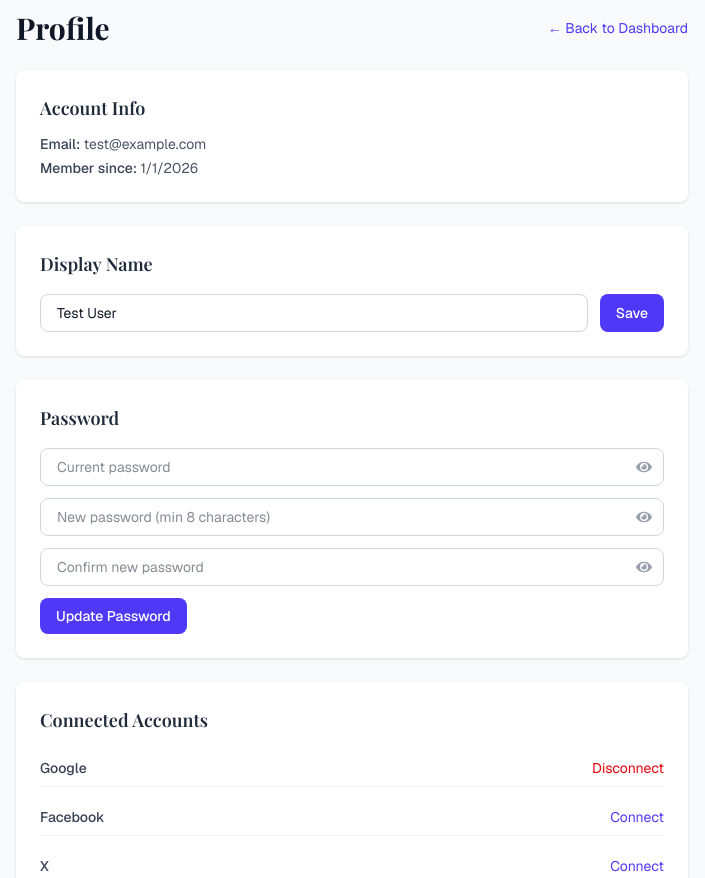
Test: ProfilePage › shows error when new passwords do not match
The width and height of the screenshot is (705, 878).
Type "current" into the password field with placeholder "Current password" at (352, 467), box [40,448,664,486]
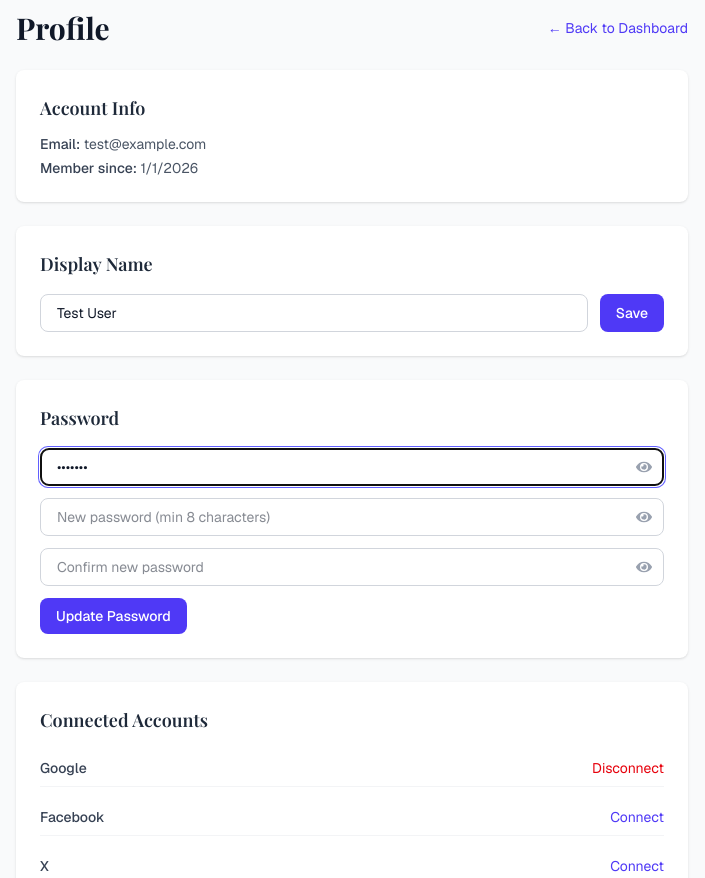
Type "newpass1" into the password field with placeholder "New password (min 8 characters)" at (352, 517), box [40,498,664,536]
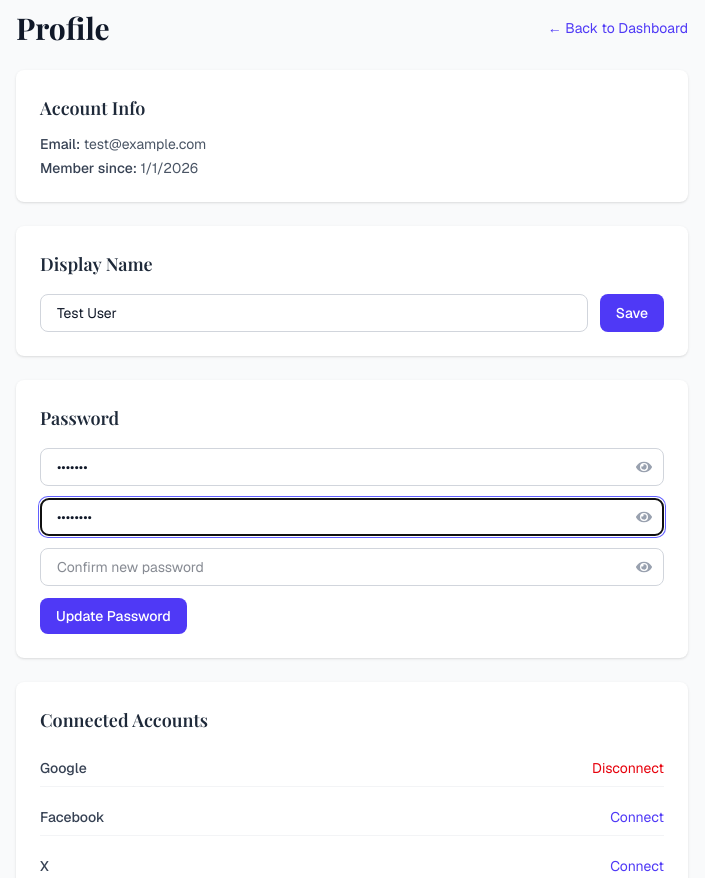
Type "newpass2" into the password field with placeholder "Confirm new password" at (352, 567), box [40,548,664,586]
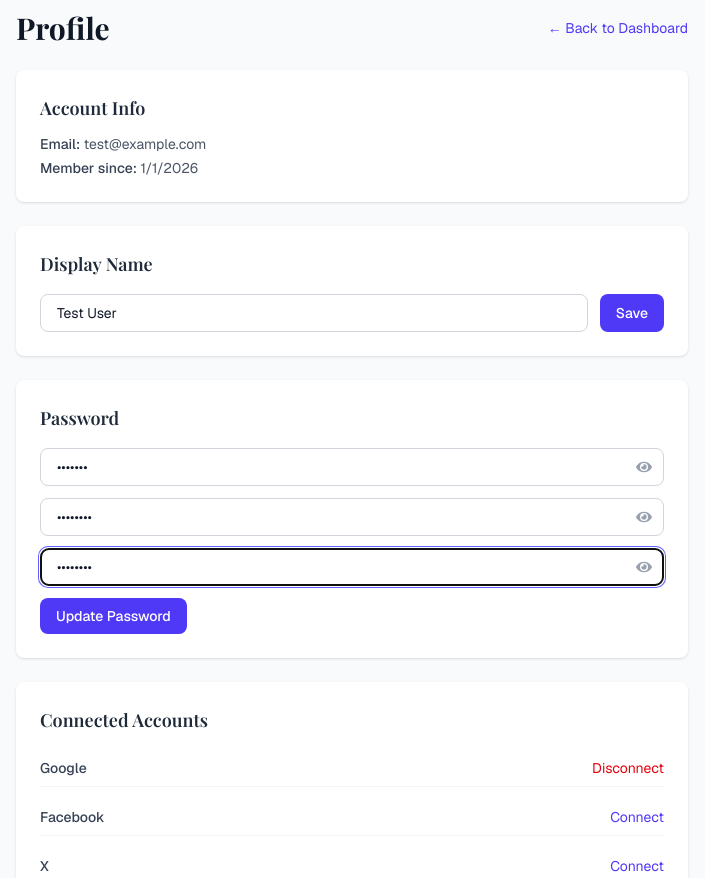
Click the button "Update Password" at (113, 616), box [40,598,187,634]
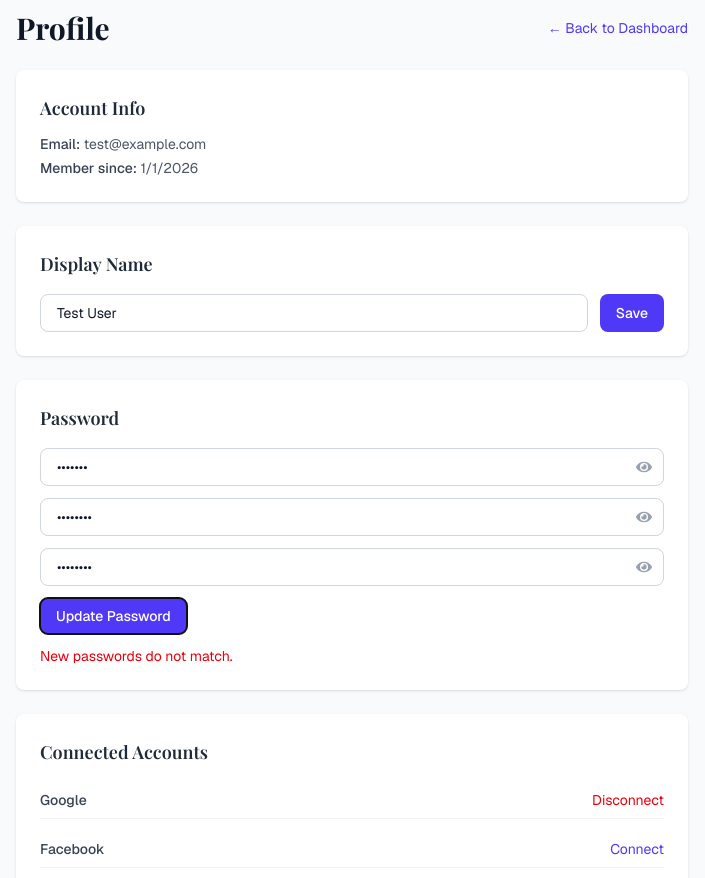
Result: the text "New passwords do not match." is shown at [40,647,233,665]
